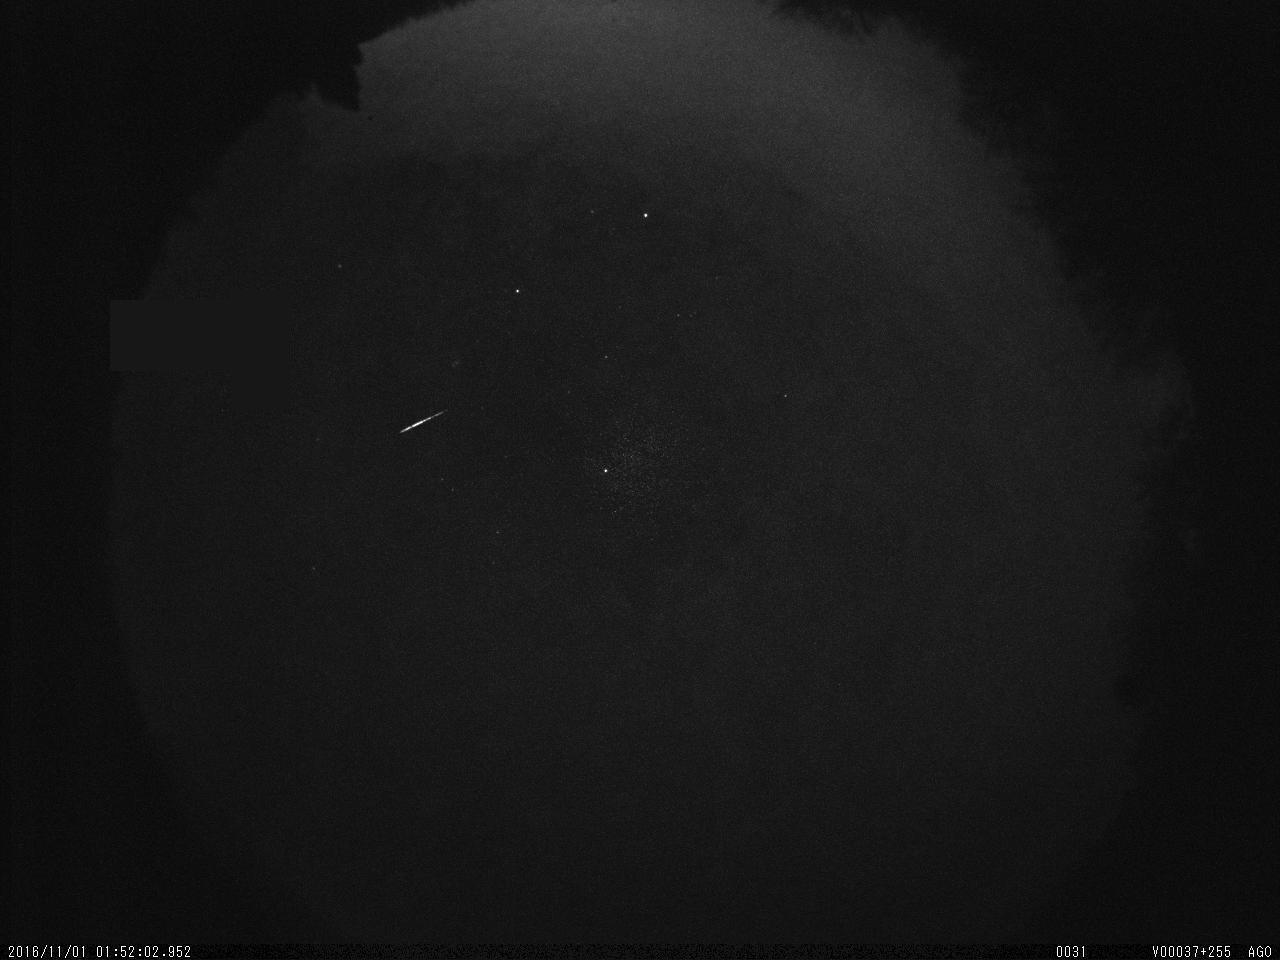meteor: (391, 411, 454, 442)
